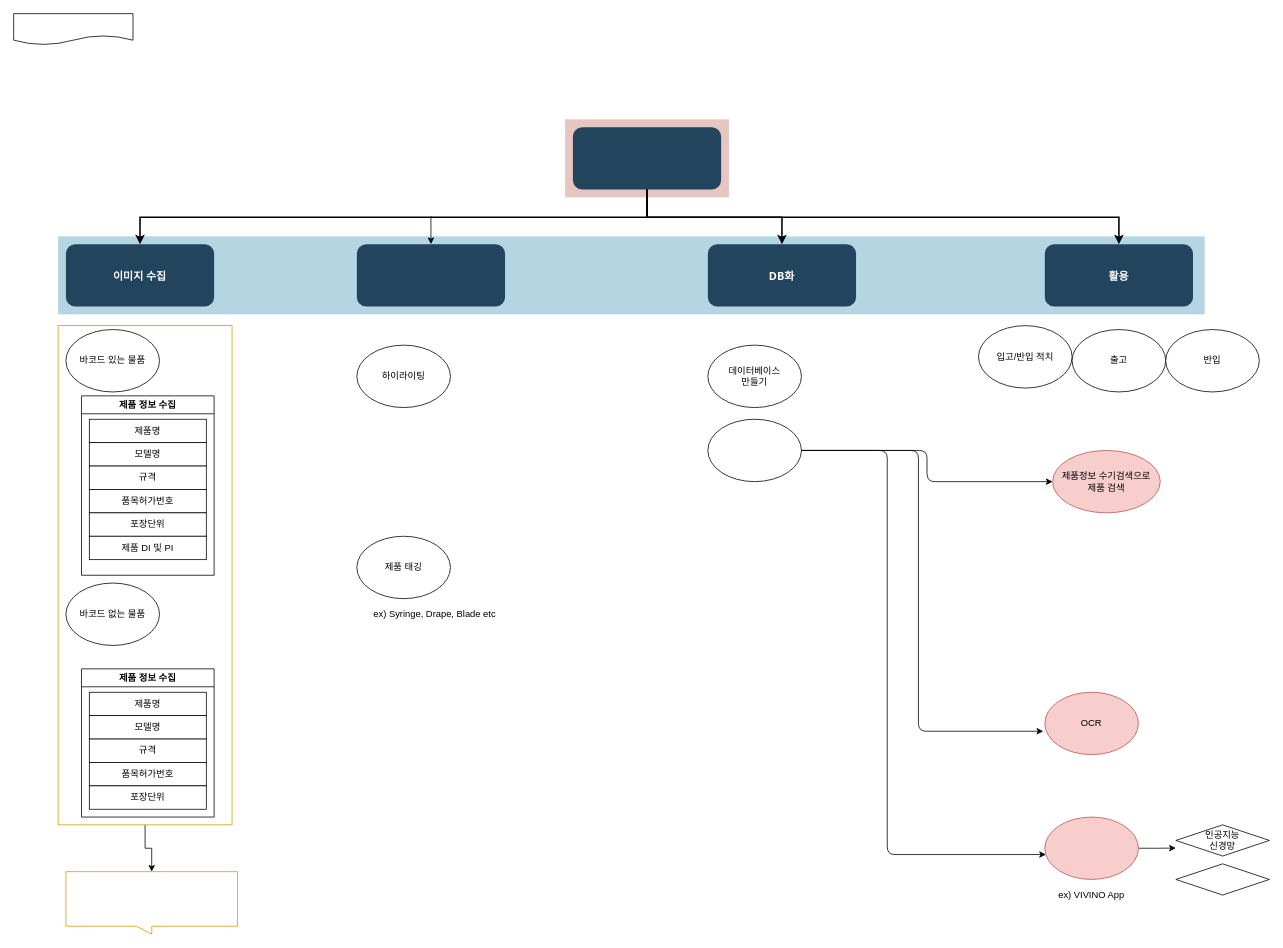
Some shapes in this 1283 by 948 pixel diagram are drawn without their labels. The shapes that lost their labels are listed below. From the top down, each one's box as (x1, y1, x2, y2) in pixels, then its label:
(13, 13, 133, 45): 추후 각 병원에 적용
(573, 127, 721, 189): 창고품
(356, 244, 505, 306): 이미지 편집
(707, 418, 801, 482): 물류마스터 정비
(1044, 816, 1138, 879): 이미지 인식
(1175, 863, 1269, 895): 대량의 학습데이터
(65, 871, 238, 934): 로케이션 - 물품코드 - (제품QR)
